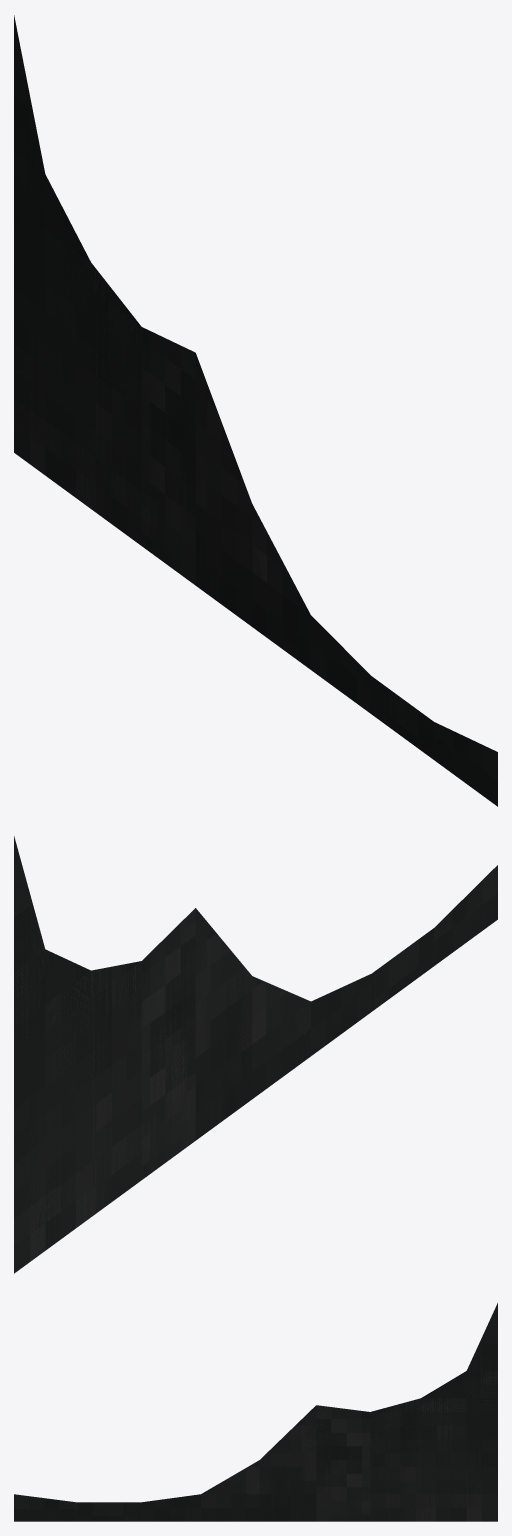
Rendered from blade2x1_decorational.obj.
The picture shows the model from 3 angles, top to bottom: view 1: azimuth 30°, elevation 25°; view 2: azimuth 150°, elevation 25°; view 3: azimuth 270°, elevation 25°; orthographic projection. The views are drawn at different scales.
Visible parts, largest first — view 1: plane; view 2: plane; view 3: plane.
Part boxes in pixels (box(x1,y1,x2,y2)): plane: box(14, 15, 497, 806); plane: box(14, 836, 497, 1273); plane: box(14, 1303, 497, 1521).
Size of the model in its own units: 0 by 1 by 2.
